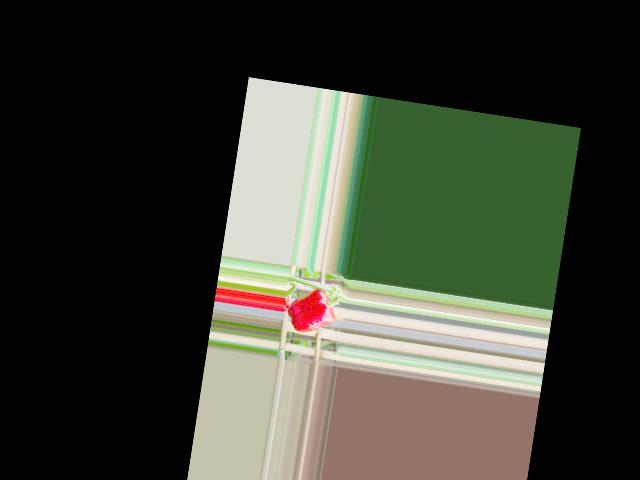bell_pepper: (285, 282, 340, 340)
